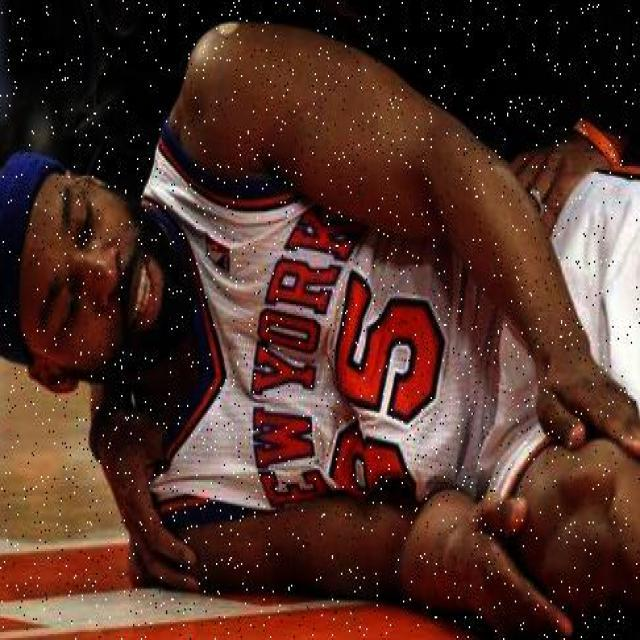fall: (13, 46, 634, 628)
